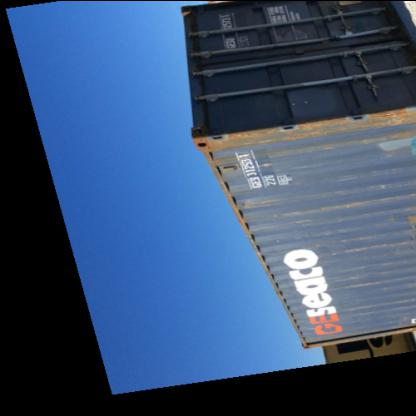Damage: (199, 112, 409, 158), (245, 184, 415, 218), (328, 236, 410, 256), (340, 275, 396, 292), (348, 297, 384, 315)
